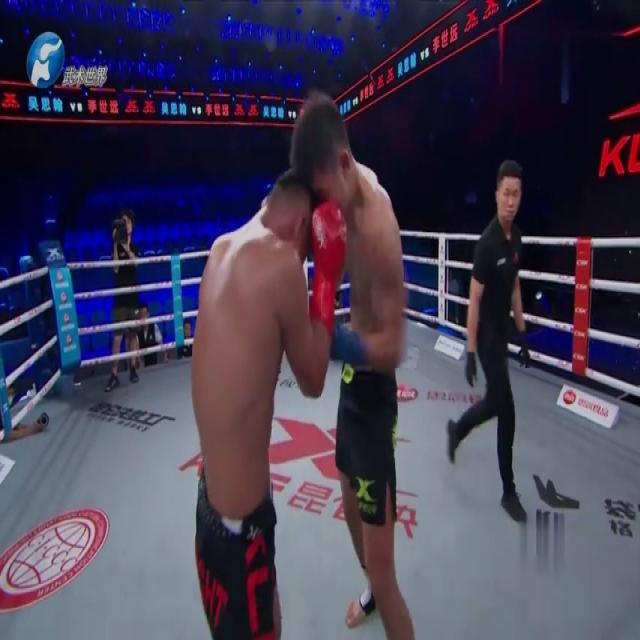fight: (168, 86, 448, 638)
non-fight: (438, 153, 546, 527)
